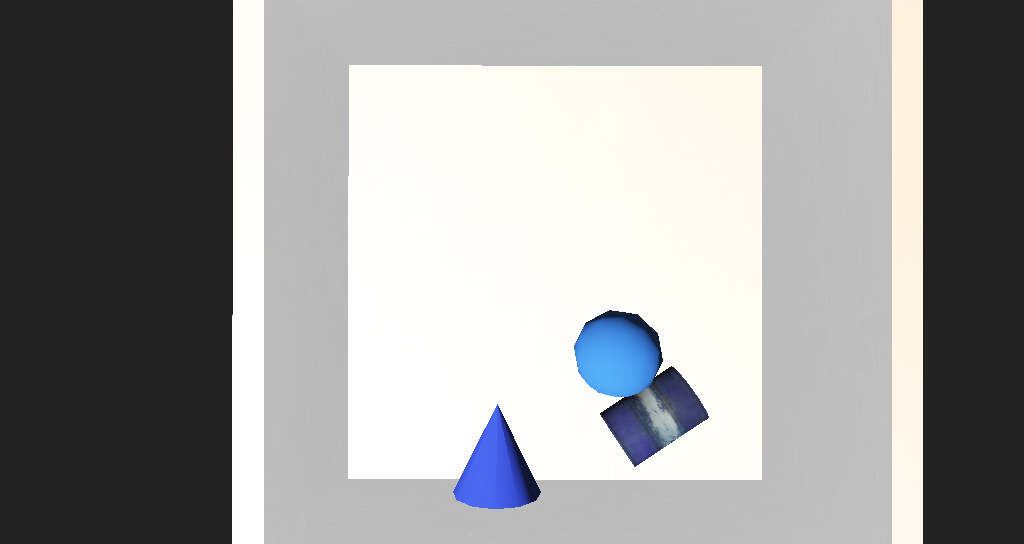cone: (532, 317, 613, 370)
cylinder: (435, 329, 495, 387)
sphere: (522, 289, 583, 332)
